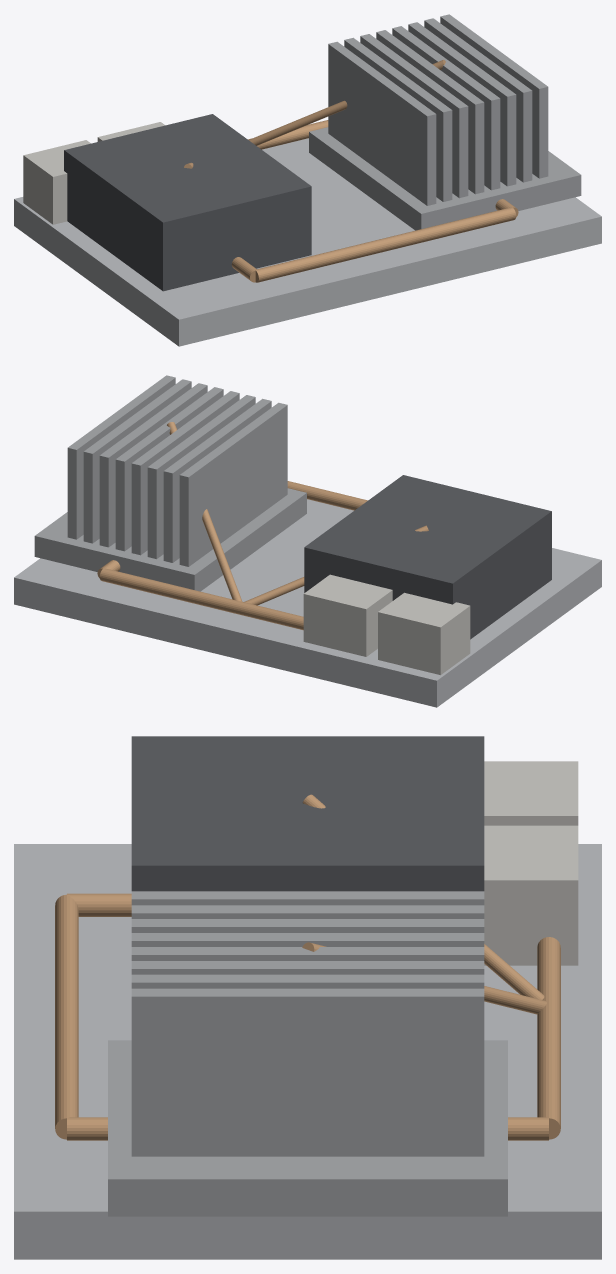
3 views of the same model, one above another, from view 1: azimuth 30°, elevation 25°; view 2: azimuth 150°, elevation 25°; view 3: azimuth 270°, elevation 25° (orthographic). The views are drawn at different scales.
Parts seen in each view (by area): view 1: heat_sink, assembly_base, heat_source, coolant_loop, module_01, link_coolant_loop__heat_sink; view 2: heat_sink, assembly_base, heat_source, module_01, module_02, coolant_loop, link_coolant_loop__heat_sink, link_coolant_loop__heat_source; view 3: heat_sink, assembly_base, heat_source, coolant_loop, module_02, module_01, link_coolant_loop__heat_source, link_coolant_loop__heat_sink.
Part boxes in pixels (x1,y1,x2,y2): heat_sink: (309, 14, 581, 230); assembly_base: (14, 138, 601, 346); heat_source: (64, 114, 311, 291); coolant_loop: (231, 120, 518, 282); module_01: (23, 140, 90, 224); link_coolant_loop__heat_sink: (249, 59, 445, 145); heat_sink: (34, 375, 306, 591); assembly_base: (14, 499, 601, 707); heat_source: (304, 475, 551, 639); module_01: (378, 592, 470, 675); module_02: (303, 574, 392, 656); coolant_loop: (97, 481, 367, 630); link_coolant_loop__heat_sink: (167, 422, 242, 601); link_coolant_loop__heat_source: (244, 525, 428, 605); heat_sink: (108, 891, 507, 1216); assembly_base: (14, 844, 601, 1259); heat_source: (131, 736, 484, 891); coolant_loop: (55, 893, 560, 1140); module_02: (484, 825, 578, 965); module_01: (484, 761, 578, 825); link_coolant_loop__heat_source: (302, 794, 544, 999); link_coolant_loop__heat_sink: (302, 942, 546, 1014).
Bounding box in the file's own units: 7.5 × 2.36 × 5.
